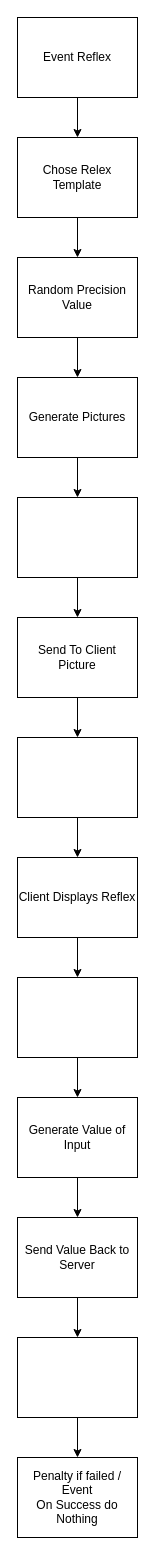
Image size: 155x1555. Some labels were removed from this diagram. The shapes that lost their labels are listed below. From the top down, each one's centre as x and y in pixels, then its label:
point 77,537: Generate Solution Range
point 77,777: Send to Client Choosen Template
point 77,1017: Player makes Input
point 77,1377: Server validates Value against Solution Range
